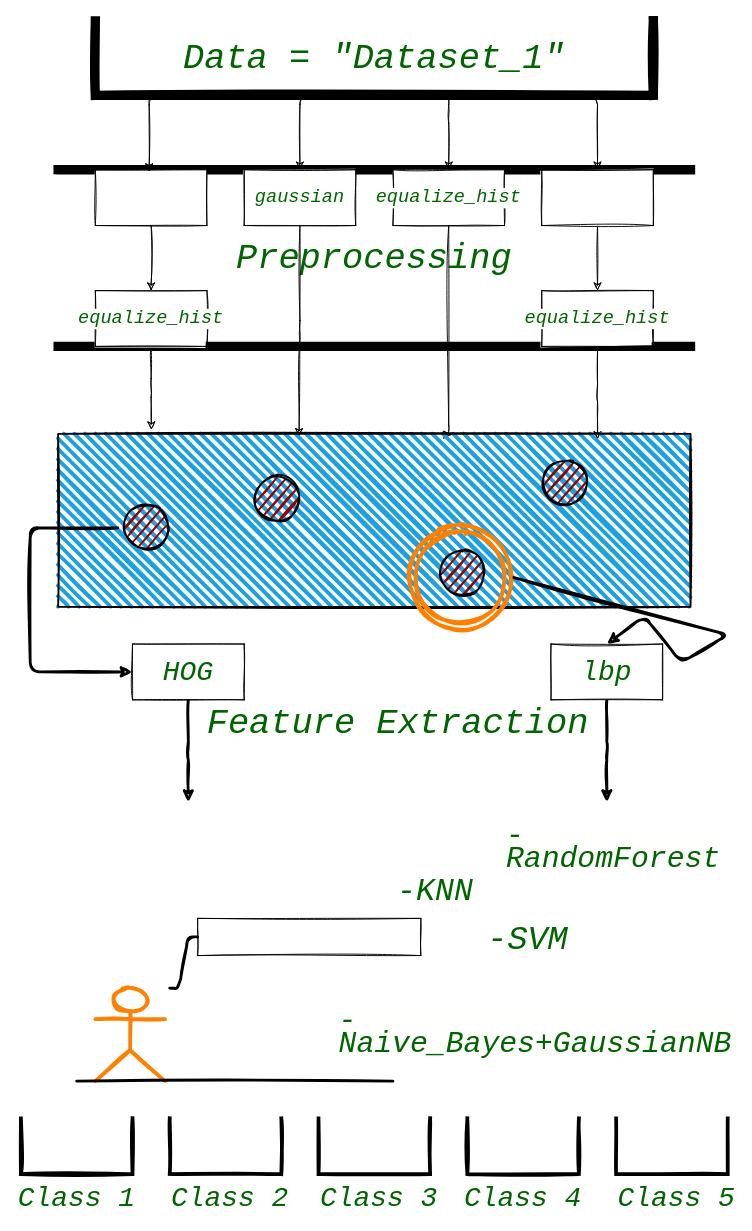
This 752x1231 diagram has some shape labels left out. Each missing label, with the centre of its shape:
"Classfior": point 309,936
laplace: point 597,197
sobel: point 150,197
